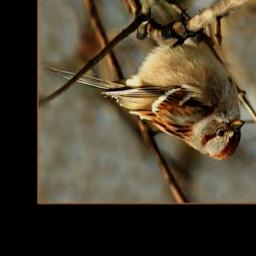Sparrow: (45, 6, 244, 161)
